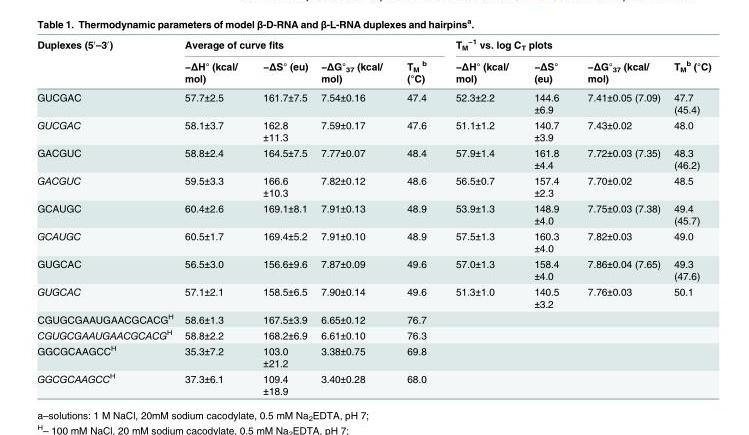table: (36, 36, 710, 396)
table column: (36, 36, 178, 396), (572, 36, 666, 396), (313, 36, 393, 396), (440, 36, 520, 396), (178, 36, 249, 396), (249, 36, 313, 396), (520, 36, 572, 396), (393, 36, 440, 396), (666, 36, 710, 396)
table column header: (36, 36, 710, 87)
table row: (36, 54, 710, 87), (36, 87, 710, 116), (36, 116, 710, 144), (36, 144, 710, 172), (36, 172, 710, 200), (36, 227, 710, 255), (36, 255, 710, 283), (36, 200, 710, 227), (36, 283, 710, 310), (36, 342, 710, 369), (36, 369, 710, 396), (36, 36, 710, 54), (36, 310, 710, 326), (36, 326, 710, 342)
table spanning cell: (36, 36, 178, 87), (440, 36, 710, 54), (178, 36, 440, 54)
